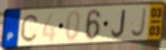0: (64, 9, 82, 42)
4: (41, 10, 58, 43)
6: (84, 8, 103, 42)
C: (19, 12, 40, 44)
J: (130, 6, 148, 39), (111, 8, 127, 38)
